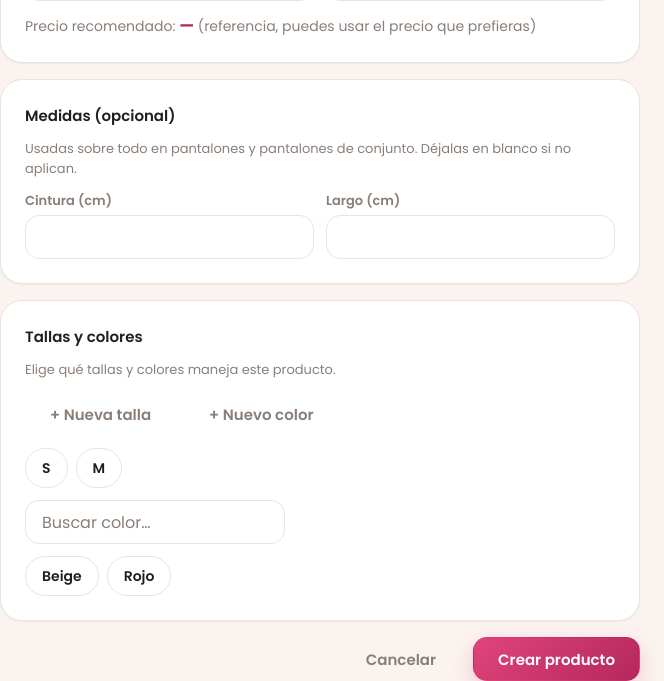
ProductFormPage (crear) › permite elegir tallas/colores y togglear combinaciones específicas
(page scrolled)
Click the button "S" at (46, 468), box left=25, top=448, right=68, bottom=488
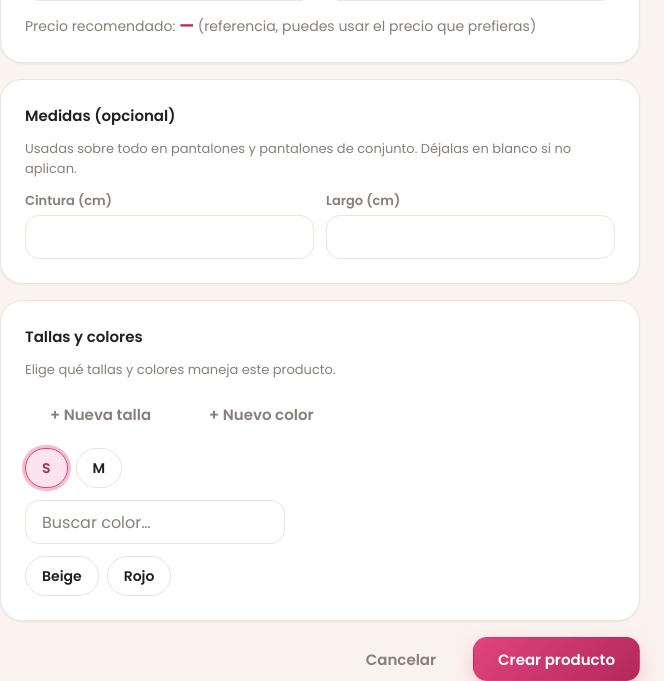
Click the button "M" at (99, 468), box left=76, top=448, right=122, bottom=488
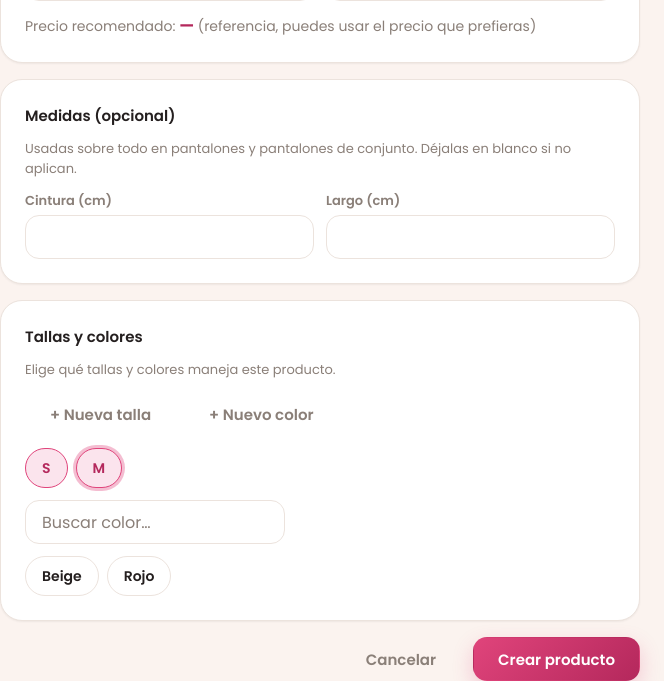
Click the button "Beige" at (62, 576), box left=25, top=556, right=99, bottom=596
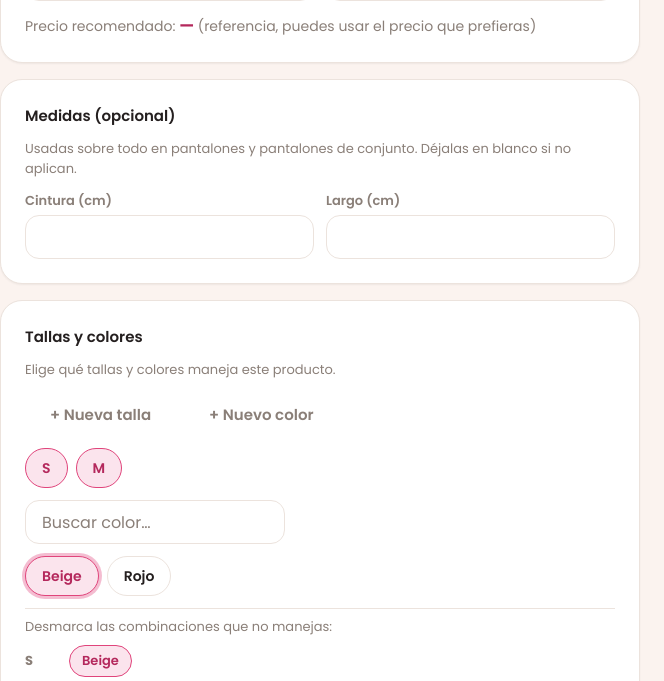
Click the button "Rojo" at (139, 576), box left=107, top=556, right=171, bottom=596
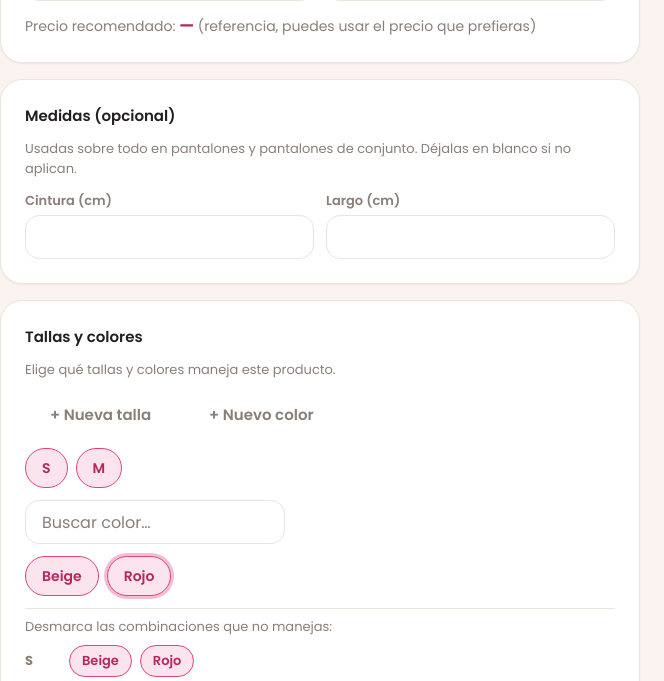
Now the text "Desmarca las combinaciones que no manejas:" is shown, box left=25, top=617, right=332, bottom=636
Now the number of buttons "Beige" is 3
